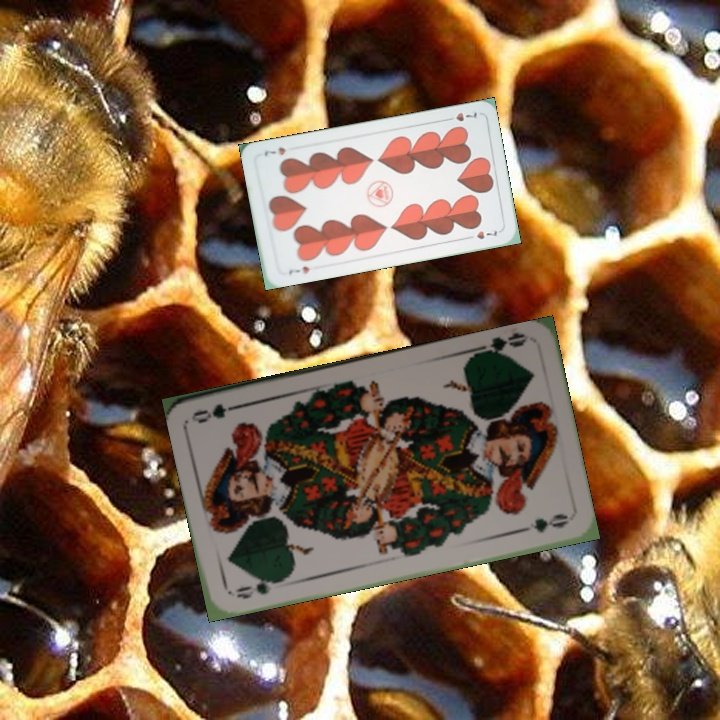GO: (472, 329, 531, 360), (231, 574, 286, 602)
H7: (440, 108, 481, 124), (284, 262, 312, 277)
